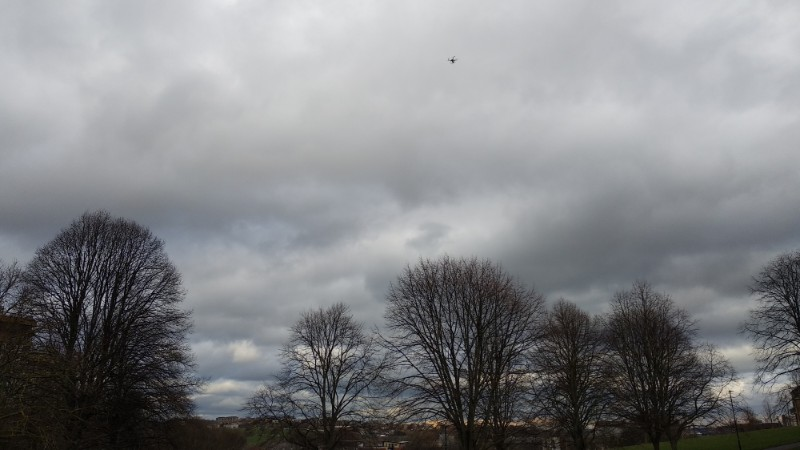drone: (447, 55, 457, 64)
